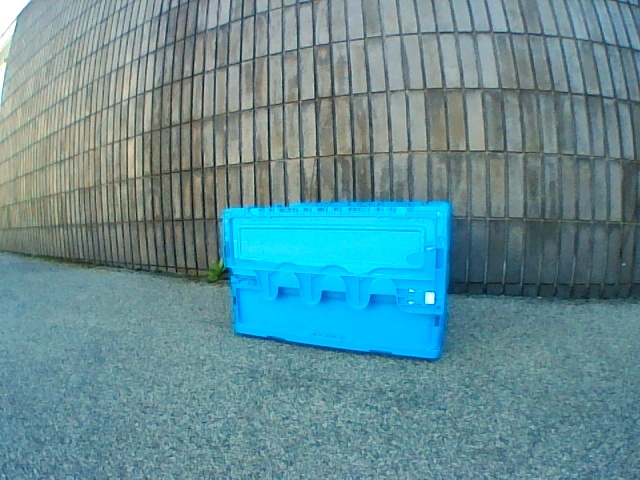blue_box: (221, 201, 450, 359)
